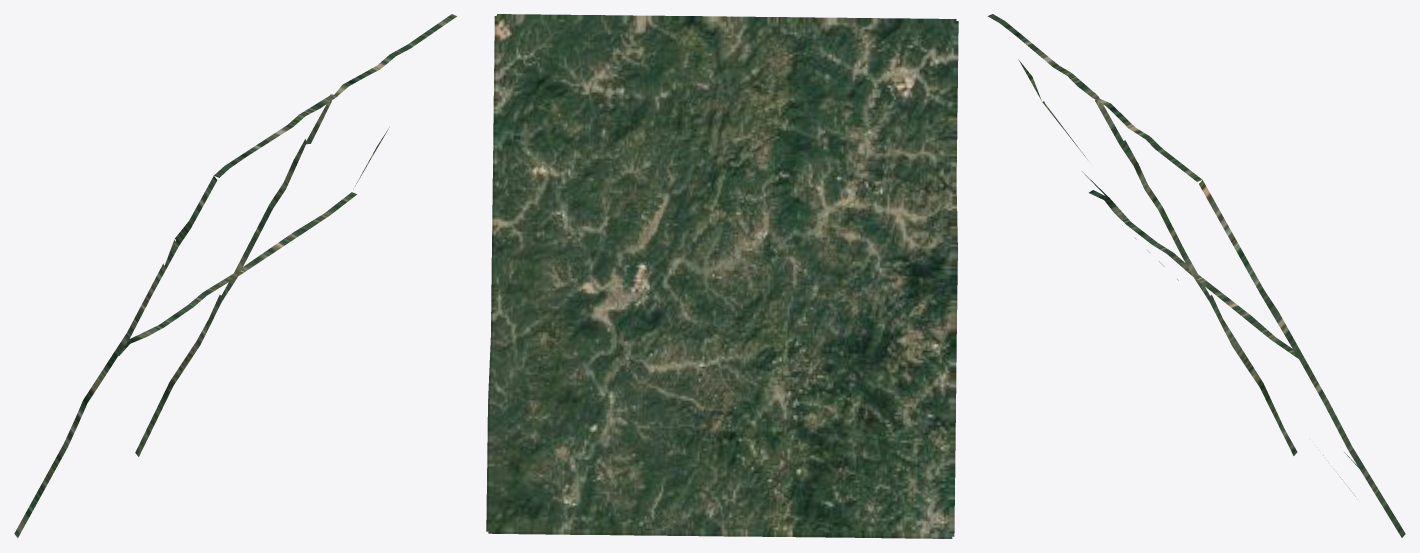
3 views of the same model, side by side, from view 1: azimuth 30°, elevation 25°; view 2: azimuth 150°, elevation 25°; view 3: azimuth 270°, elevation 25° (orthographic). The views are drawn at different scales.
Bounding box in the file's own units: 79497 × 70822 × 65842.
Materials: 1 (1 with a texture image).
